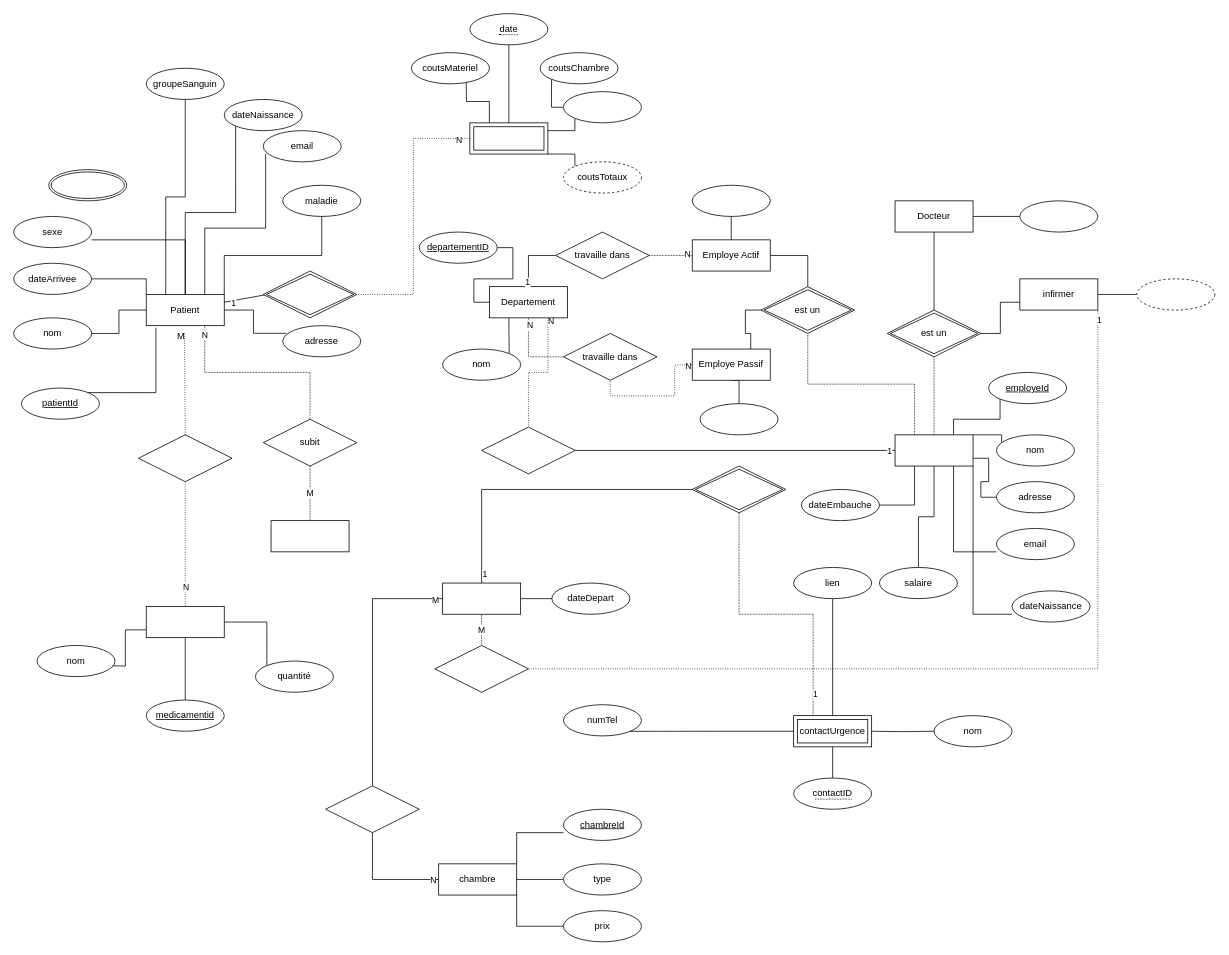
Image size: 1229x955. Some labels were removed from this diagram. Each missing label, with the centre of its shape:
"coutsDivers" belongs at pixel 602 107.
"dateDebutActive" belongs at pixel 730 200.
"dateFinActive" belongs at pixel 738 419.
"Employee" belongs at pixel 933 450.
"examen" belongs at pixel 309 536.
"Facture" belongs at pixel 508 138.
"gère" belongs at pixel 528 450.
"Médicament" belongs at pixel 184 622.
"nbPatients" belongs at pixel 1175 294.
"noTelephone" belongs at pixel 87 185.
"PatientAdmis" belongs at pixel 481 598.
"Paye" belongs at pixel 309 294.
"possède" belongs at pixel 738 489.
"prend" belongs at pixel 185 458.
"qualifications" belongs at pixel 1058 216.
"réside dans" belongs at pixel 372 809.
"soigne" belongs at pixel 481 668.
